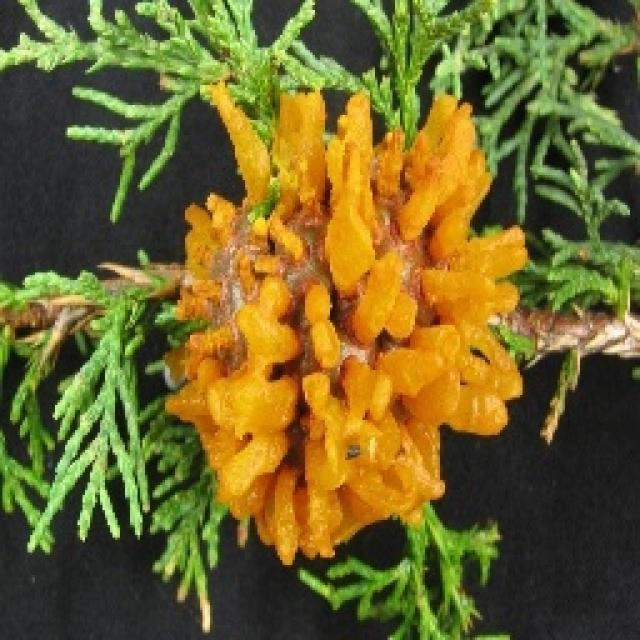Gymnosporangium_Rusts: (160, 77, 530, 565)
